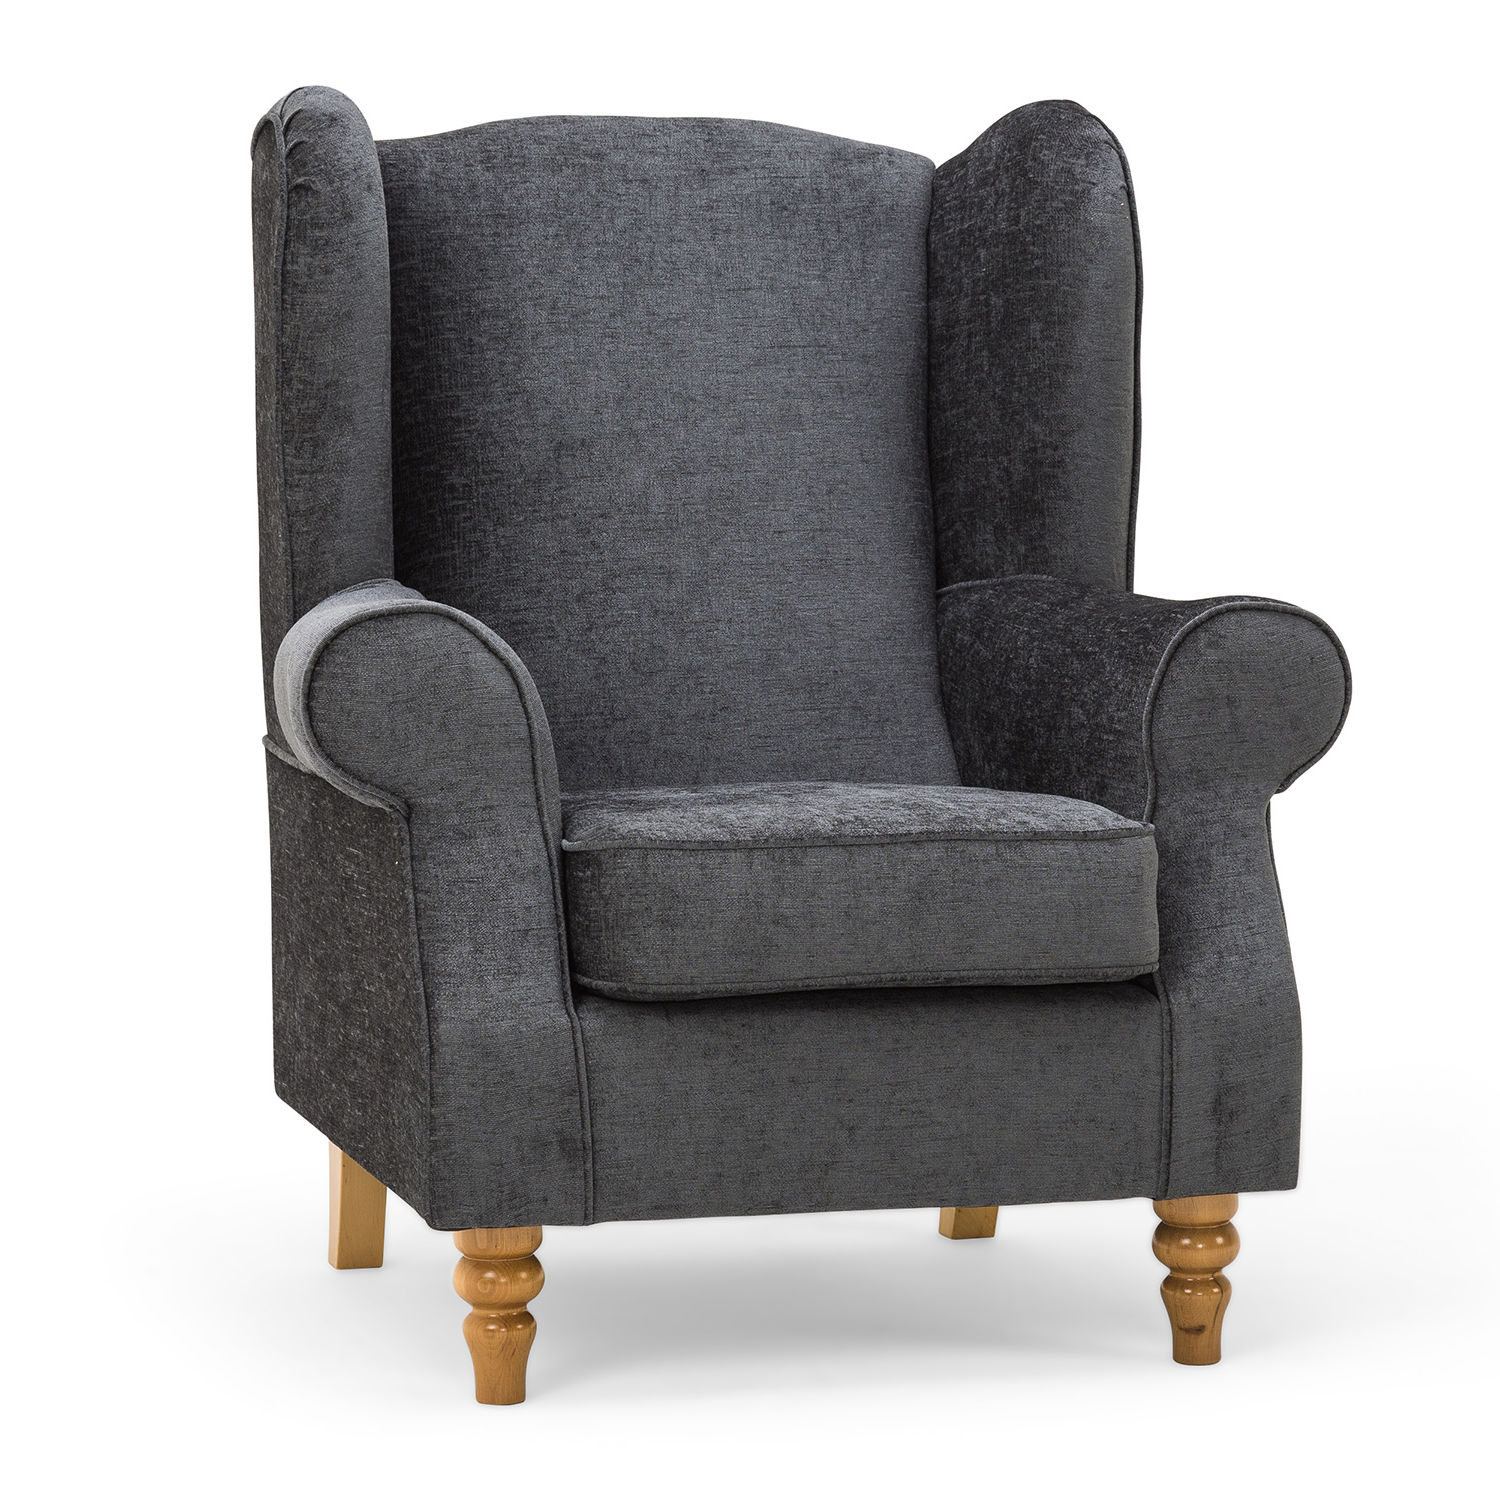chairs: (242, 84, 1359, 1409)
